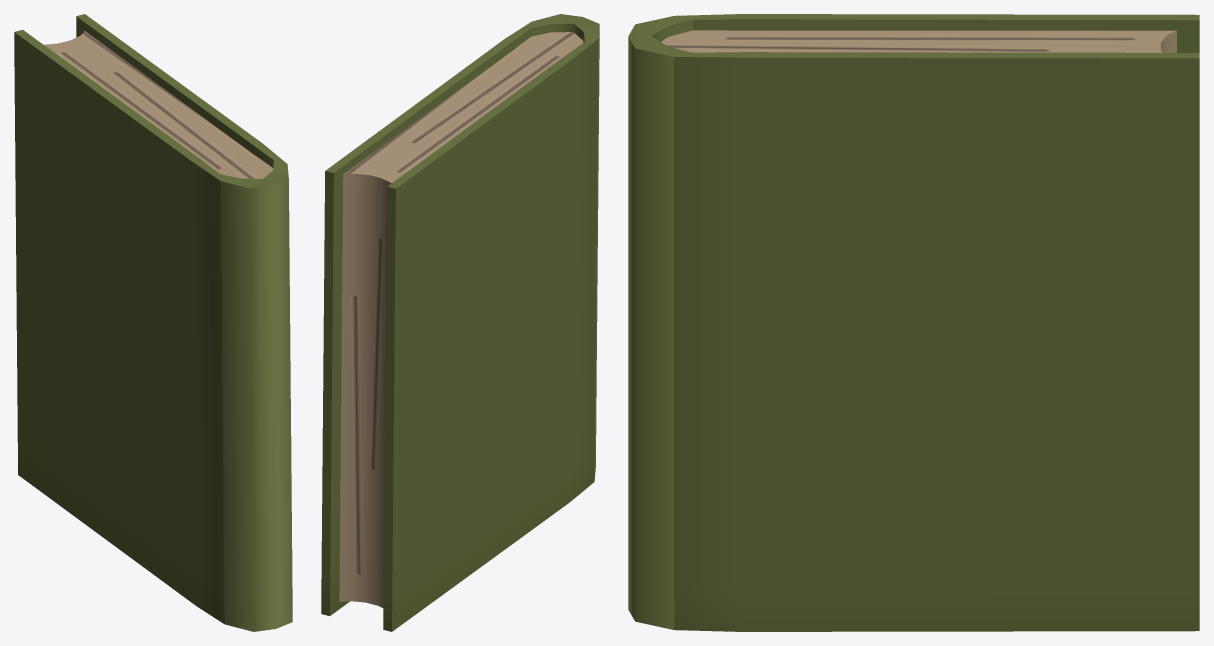
Rendered from Mesh_Room_Book_05_SM.fbx.
3 views of the same model, side by side, from view 1: azimuth 30°, elevation 25°; view 2: azimuth 150°, elevation 25°; view 3: azimuth 270°, elevation 25° (orthographic). The views are drawn at different scales.
Visible parts, largest first — view 1: Mesh_Room_Book_05; view 2: Mesh_Room_Book_05; view 3: Mesh_Room_Book_05.
Part boxes in pixels (x1,y1,x2,y2): Mesh_Room_Book_05: (14,14,292,631); Mesh_Room_Book_05: (321,14,599,631); Mesh_Room_Book_05: (628,14,1199,631).
Bounding box in the file's own units: 5.06 × 28.83 × 26.07.
